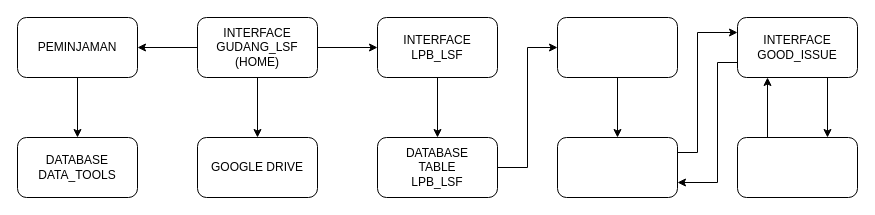
This 875x215 diagram has some shape labels left out. Each missing label, with the centre of its shape:
"DATABASE TABLE DATA_STOCK" belongs at pixel 617 167.
"DATABASE TABLE GOOD_ISSUE" belongs at pixel 797 167.
"INTERFACE DATA_STOCK" belongs at pixel 617 47.
